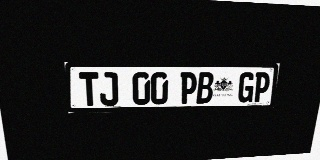0: (132, 72, 150, 105), (151, 72, 168, 105)
B: (196, 72, 214, 104)
G: (237, 72, 256, 103)
J: (99, 72, 118, 106)
P: (179, 72, 197, 104), (252, 72, 271, 102)
T: (79, 72, 100, 106)
